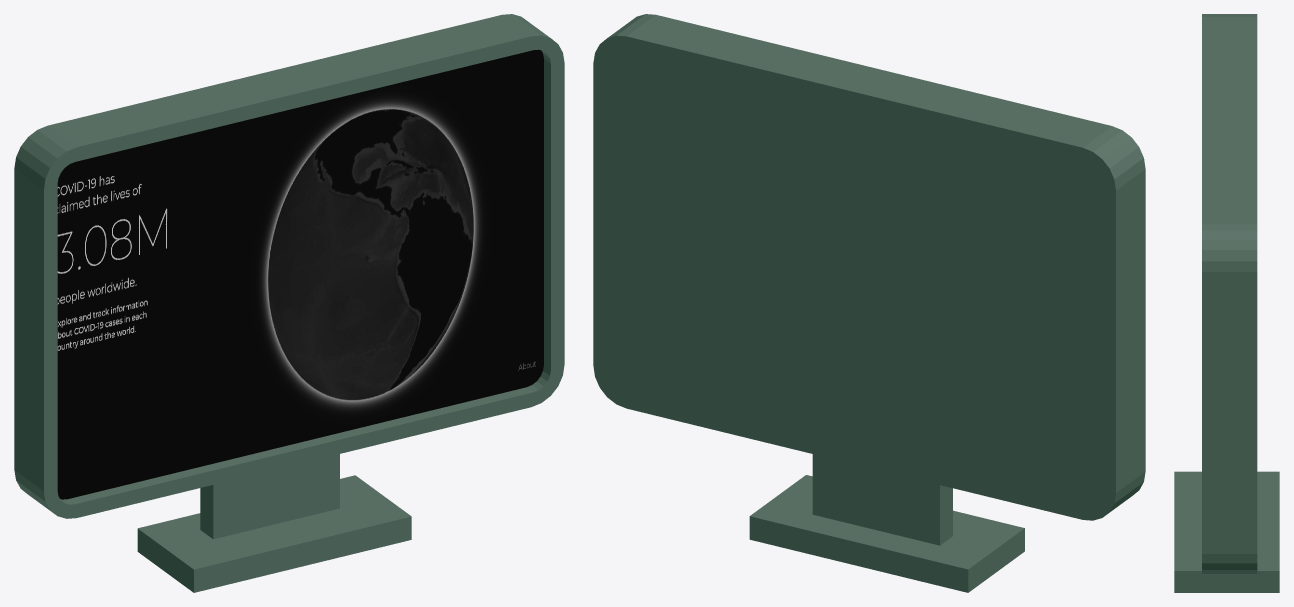
The model's file is covid-screen.glb.
3 views of the same model, side by side, from view 1: azimuth 30°, elevation 25°; view 2: azimuth 150°, elevation 25°; view 3: azimuth 270°, elevation 25° (orthographic). The views are drawn at different scales.
Visible parts, largest first — view 1: Cube.001; view 2: Cube.001; view 3: Cube.001.
Part boxes in pixels (left/top/right/bottom): Cube.001: left=14, top=14, right=564, bottom=592; Cube.001: left=593, top=14, right=1145, bottom=592; Cube.001: left=1174, top=14, right=1279, bottom=592.
Size of the model in its own units: 4.58 by 3.87 by 0.8596.
2 materials, 1 textured.
